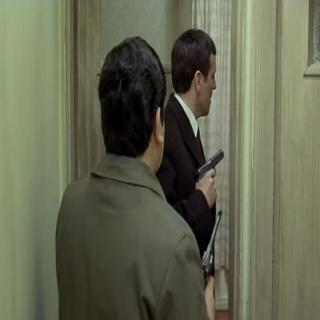gun: (198, 210, 228, 287), (197, 150, 224, 200)
